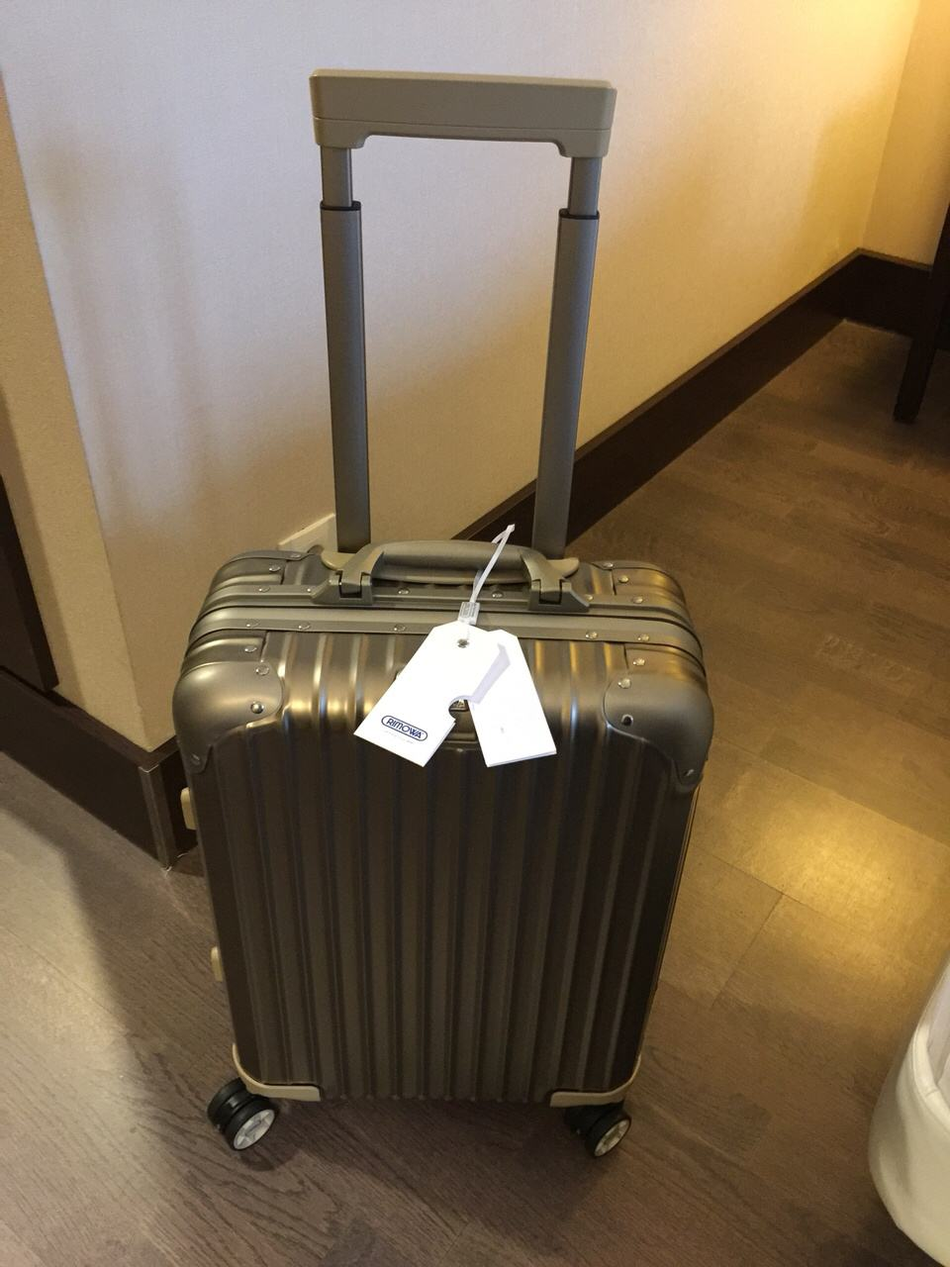box: (171, 551, 715, 1112)
handle: (311, 538, 589, 615)
wheel: (204, 1080, 277, 1153), (562, 1099, 632, 1159)
